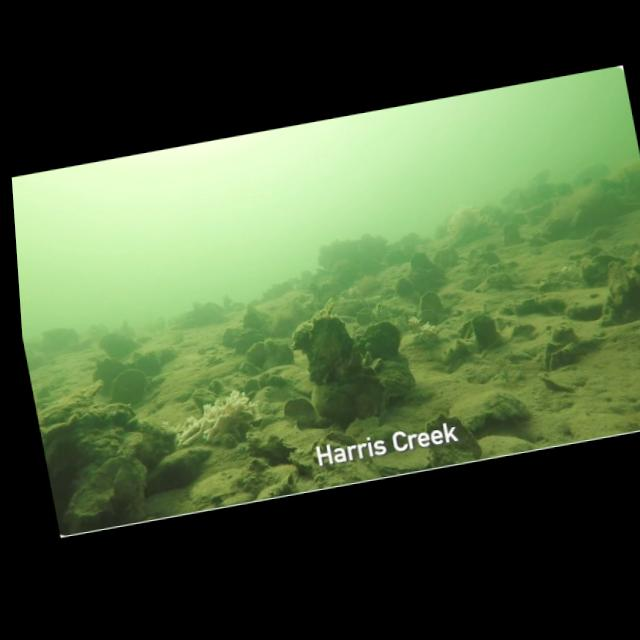Oyster-Closed: (38, 381, 103, 427), (372, 448, 430, 477), (442, 339, 479, 365), (538, 373, 574, 393), (192, 388, 216, 411)
Oyster-Indeterminate: (292, 308, 362, 385), (450, 390, 530, 433), (426, 415, 481, 468), (601, 255, 640, 327), (190, 468, 248, 511), (292, 299, 334, 350), (149, 448, 211, 478), (357, 321, 401, 360), (546, 338, 598, 371), (113, 458, 146, 501), (478, 435, 537, 459), (284, 398, 329, 429), (112, 369, 148, 405), (290, 442, 328, 475), (471, 313, 502, 350), (98, 333, 137, 359), (570, 202, 598, 238), (263, 338, 294, 368), (92, 358, 129, 383), (246, 431, 283, 456), (462, 360, 497, 384), (235, 329, 265, 355), (91, 458, 123, 482), (565, 302, 603, 322), (256, 482, 293, 501), (578, 262, 607, 286), (411, 267, 444, 288), (541, 218, 571, 241), (264, 465, 298, 485), (134, 353, 161, 377), (502, 324, 536, 343), (536, 297, 566, 316), (245, 341, 266, 368), (243, 305, 265, 330), (503, 222, 524, 247), (543, 342, 563, 368), (551, 327, 578, 346), (485, 272, 513, 290), (433, 248, 458, 268), (592, 254, 627, 267), (512, 298, 537, 316), (151, 347, 177, 364), (221, 329, 243, 348), (410, 252, 432, 271), (385, 249, 407, 267), (419, 324, 439, 343), (395, 277, 414, 296), (239, 363, 262, 377), (218, 384, 244, 396), (394, 315, 409, 334), (478, 252, 499, 265), (357, 308, 372, 326), (321, 447, 334, 466), (244, 378, 260, 393), (266, 375, 286, 387), (208, 380, 224, 394), (379, 287, 395, 301), (258, 372, 270, 388), (362, 366, 376, 376), (132, 352, 143, 360)
Oyster-Open: (418, 292, 443, 325), (325, 431, 356, 446), (219, 433, 237, 449), (370, 358, 384, 373), (246, 390, 256, 400)
